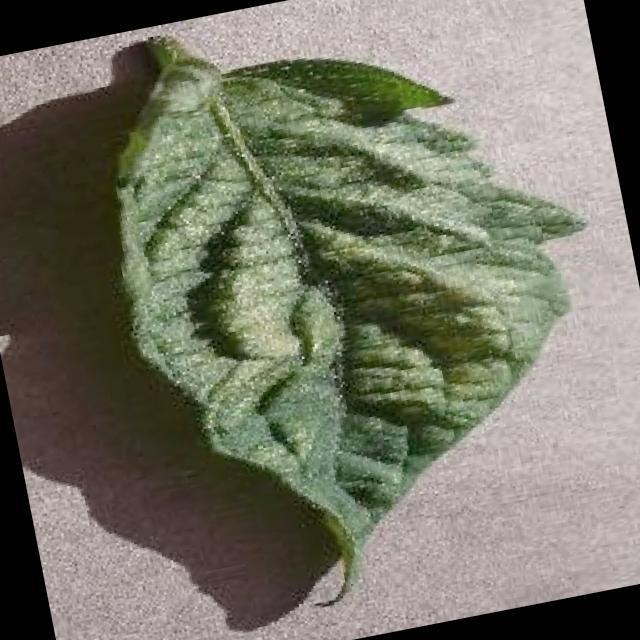Tomato spider mites leaf: (84, 0, 640, 636)
